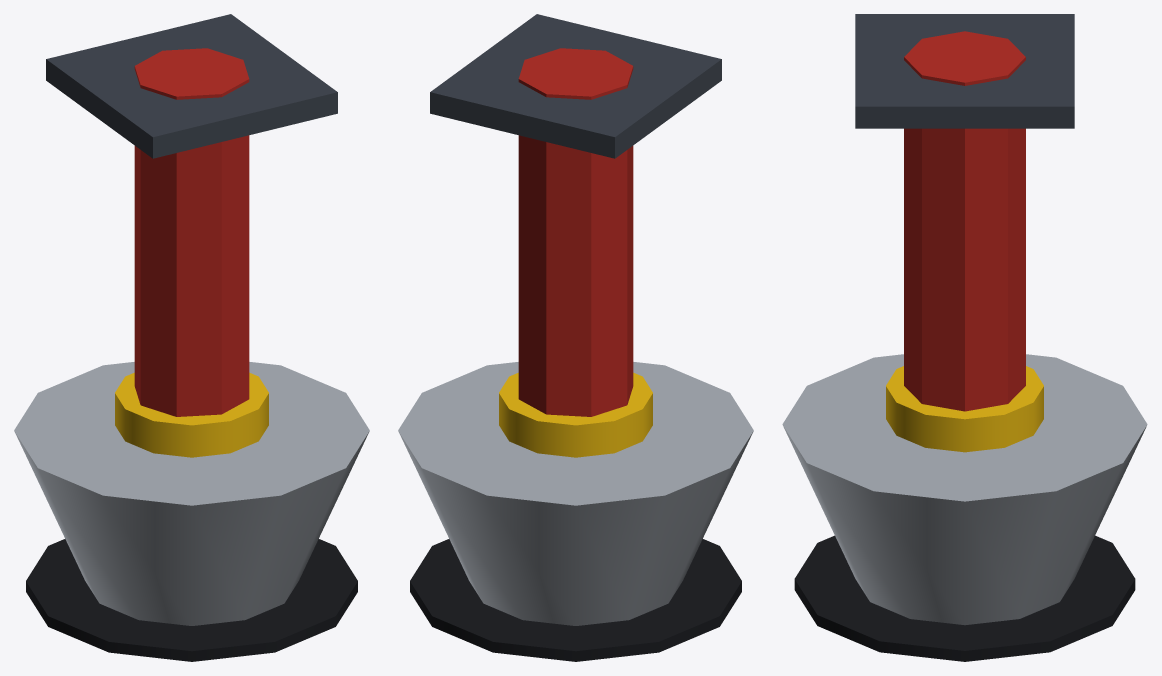
File: safety_suppression_nozzle.glb
The picture shows the model from 3 angles, left to right: view 1: azimuth 30°, elevation 25°; view 2: azimuth 150°, elevation 25°; view 3: azimuth 270°, elevation 25°; orthographic projection. The views are drawn at different scales.
Parts seen in each view (by area): view 1: safety_suppression_nozzle; view 2: safety_suppression_nozzle; view 3: safety_suppression_nozzle.
Boxes of the visible parts, x1,y1,x2,y2 form: safety_suppression_nozzle: (14, 14, 369, 661); safety_suppression_nozzle: (398, 14, 753, 661); safety_suppression_nozzle: (782, 14, 1147, 661).
Size of the model in its own units: 0.3 by 0.503 by 0.3.
